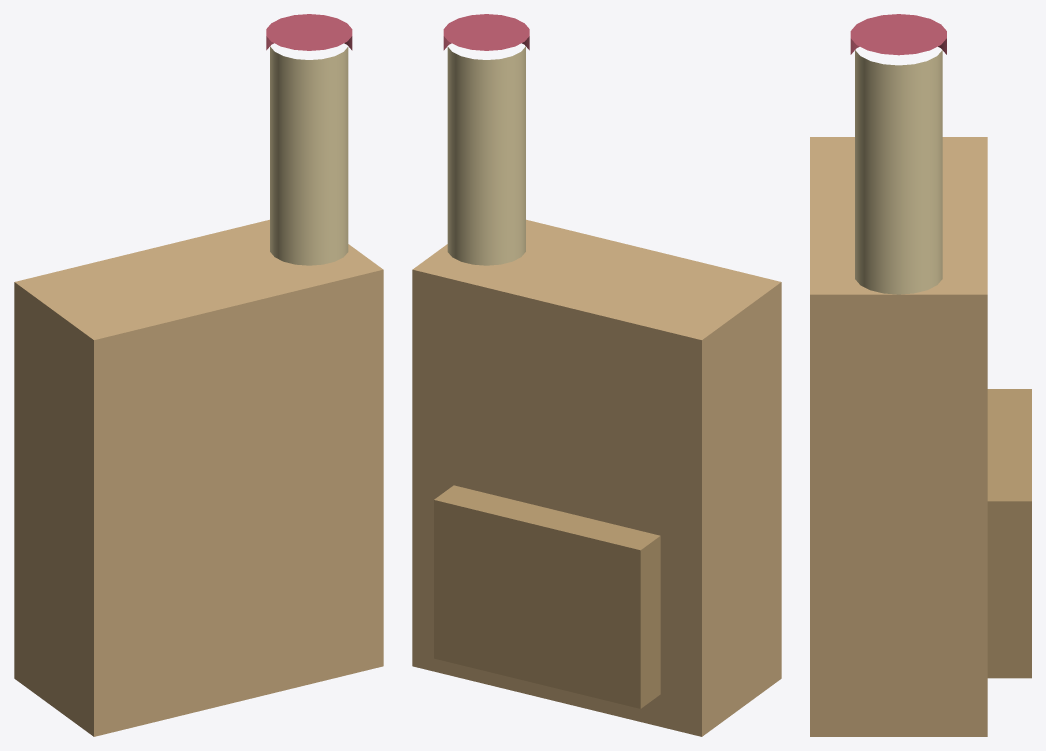
The model's file is tour-backpack.glb.
3 renders of one model, left to right at view 1: azimuth 30°, elevation 25°; view 2: azimuth 150°, elevation 25°; view 3: azimuth 270°, elevation 25°, orthographic. The views are drawn at different scales.
Visible parts, largest first — view 1: tour-backpack; view 2: tour-backpack; view 3: tour-backpack.
Part boxes in pixels (bbox=[...]): tour-backpack: bbox=[14, 14, 383, 736]; tour-backpack: bbox=[412, 14, 781, 736]; tour-backpack: bbox=[810, 14, 1031, 736].
Bounding box in the file's own units: 0.425 × 0.85 × 0.25.
